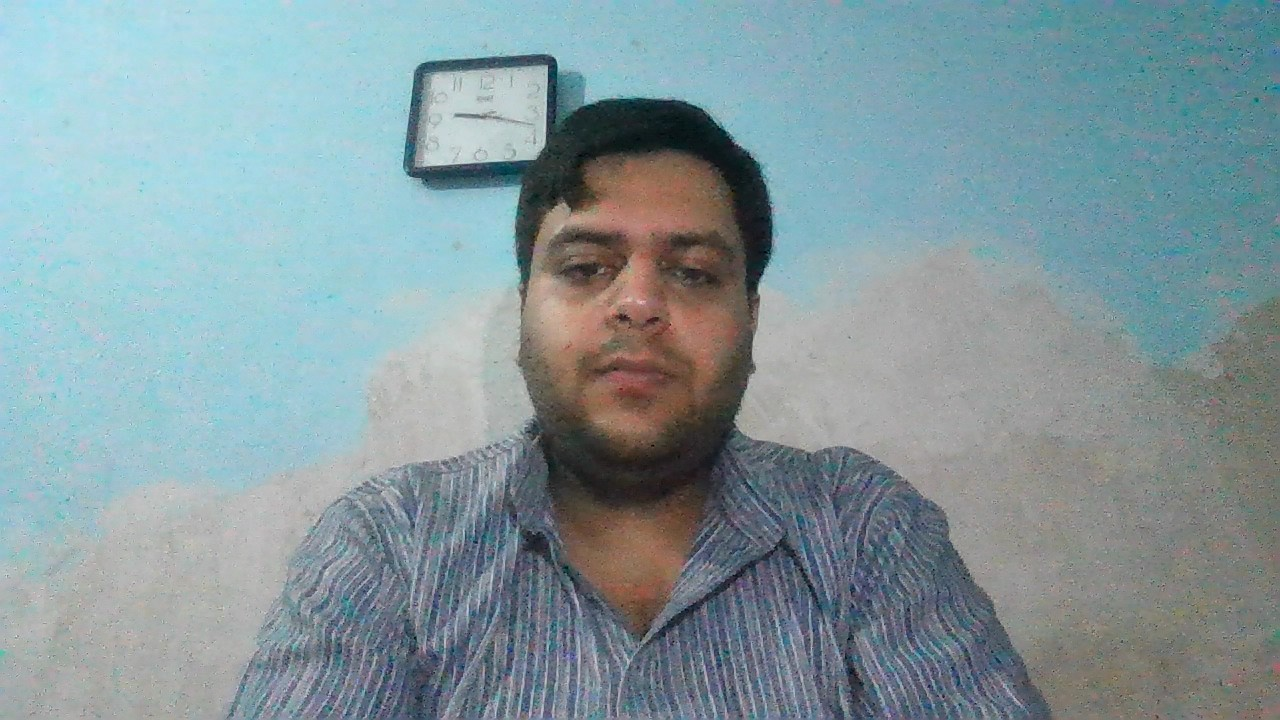No Mask: (516, 293, 763, 451)
